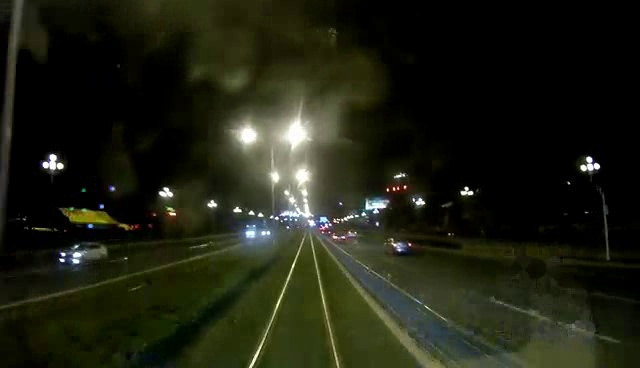car: (61, 240, 113, 266), (386, 238, 416, 257)
